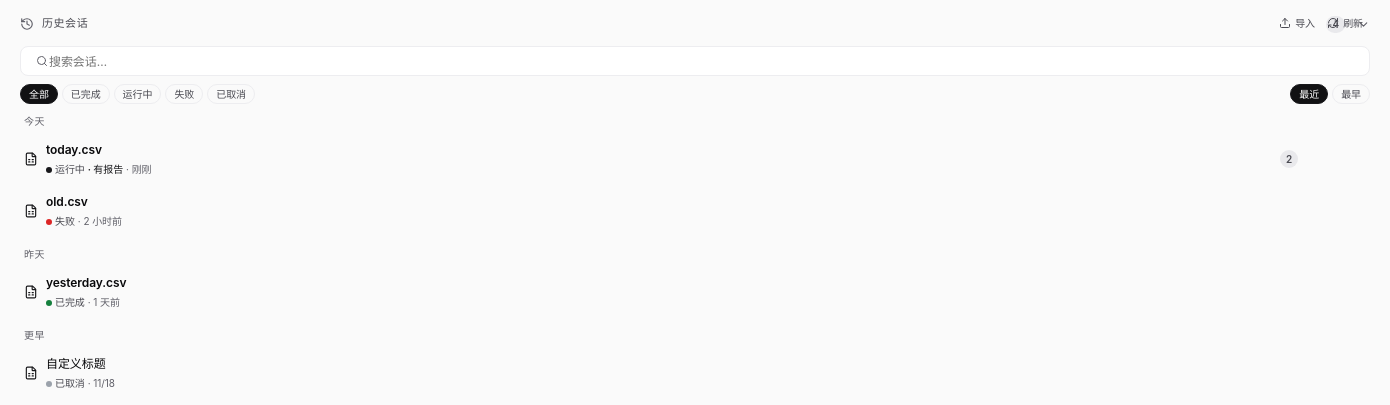
Scenario: HistoryPanel › 搜索覆盖文件名 / 任务 / 报告正文，并给出无结果提示
In the search field named "搜索历史会话": x=695, y=61 [20,46,1370,76], type "检查销售"
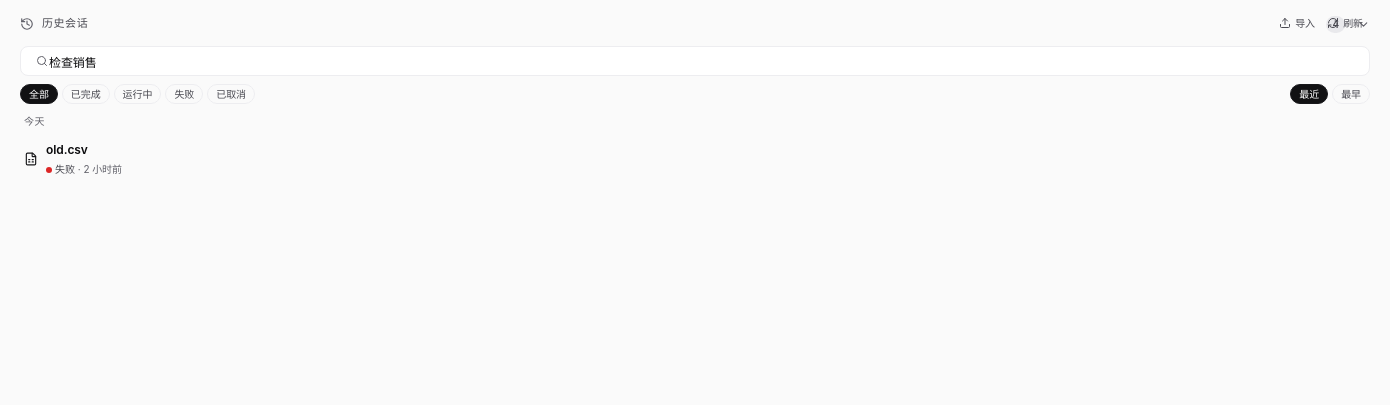
Check: the text "old.csv" is shown, box [46,142,88,157]
Check: the button "today.csv" is gone
Replace the text in the search field named "搜索历史会话" with "报告关键词": x=695, y=61 [20,46,1370,76]
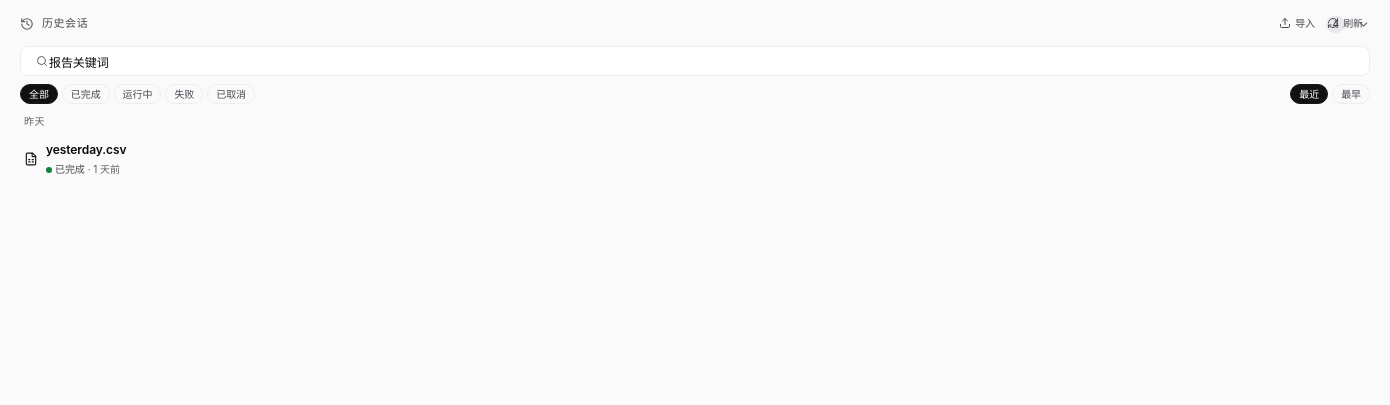
Check: the text "yesterday.csv" is shown, box [46,142,126,157]
Check: the button "old.csv" is gone
Replace the text in the search field named "搜索历史会话" with "不存在的会话": x=695, y=61 [20,46,1370,76]
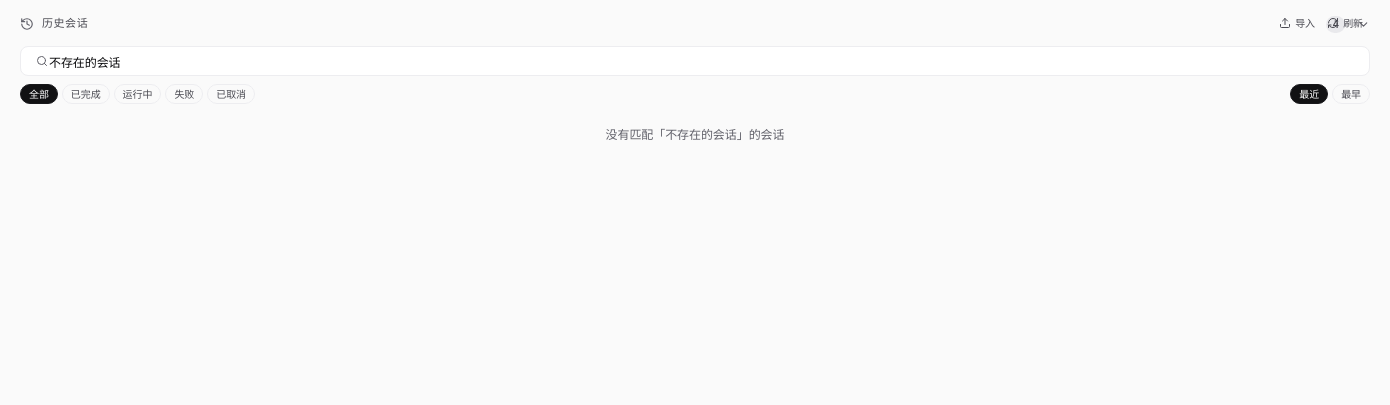
Check: the text "没有匹配「不存在的会话」的会话" is shown, box [606,127,784,142]
Clear the search field named "搜索历史会话": x=695, y=61 [20,46,1370,76]
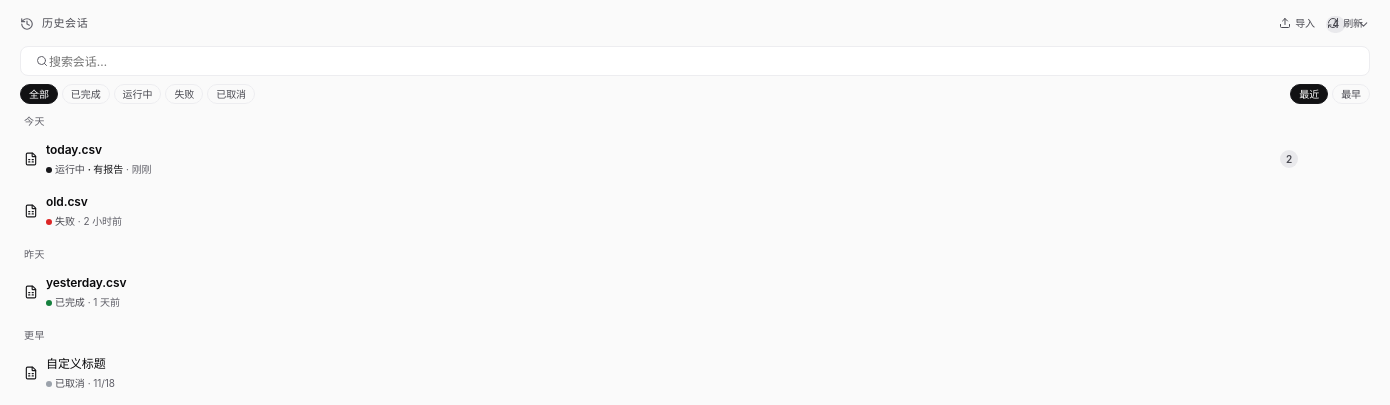
Check: the text "today.csv" is shown, box [46,142,102,157]
